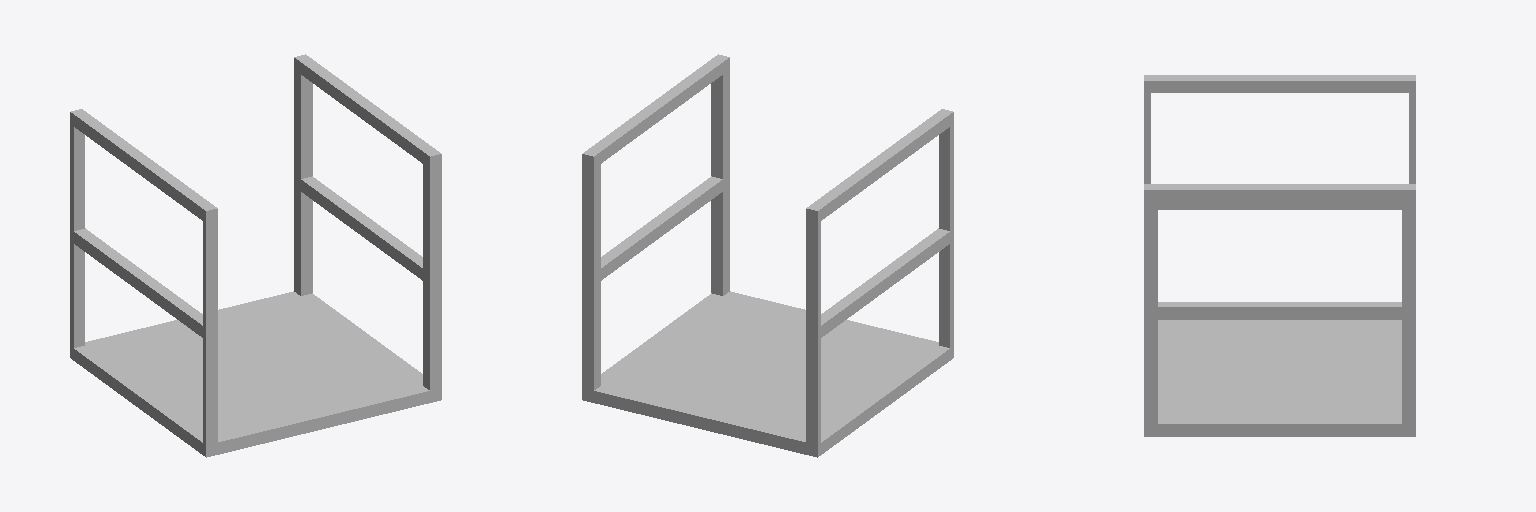
File: platform tunnel.obj
3 renders of one model, left to right at view 1: azimuth 30°, elevation 25°; view 2: azimuth 150°, elevation 25°; view 3: azimuth 270°, elevation 25°, orthographic.
Parts seen in each view (by area): view 1: object 1; view 2: object 1; view 3: object 1.
Boxes of the visible parts, x1,y1,x2,y2 form: object 1: [70, 54, 441, 457]; object 1: [582, 54, 953, 457]; object 1: [1144, 75, 1415, 436].
Size of the model in its own units: 4 by 4 by 4.